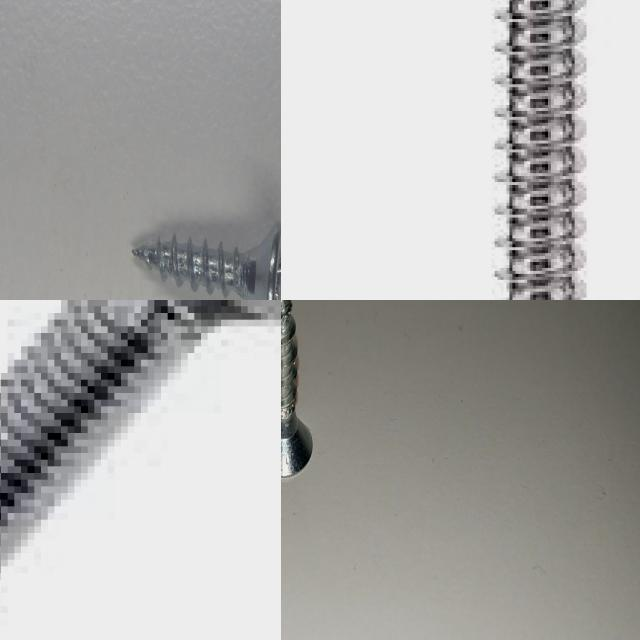Screw: (0, 300, 281, 580), (492, 0, 589, 300), (131, 220, 281, 300), (281, 300, 313, 476)
